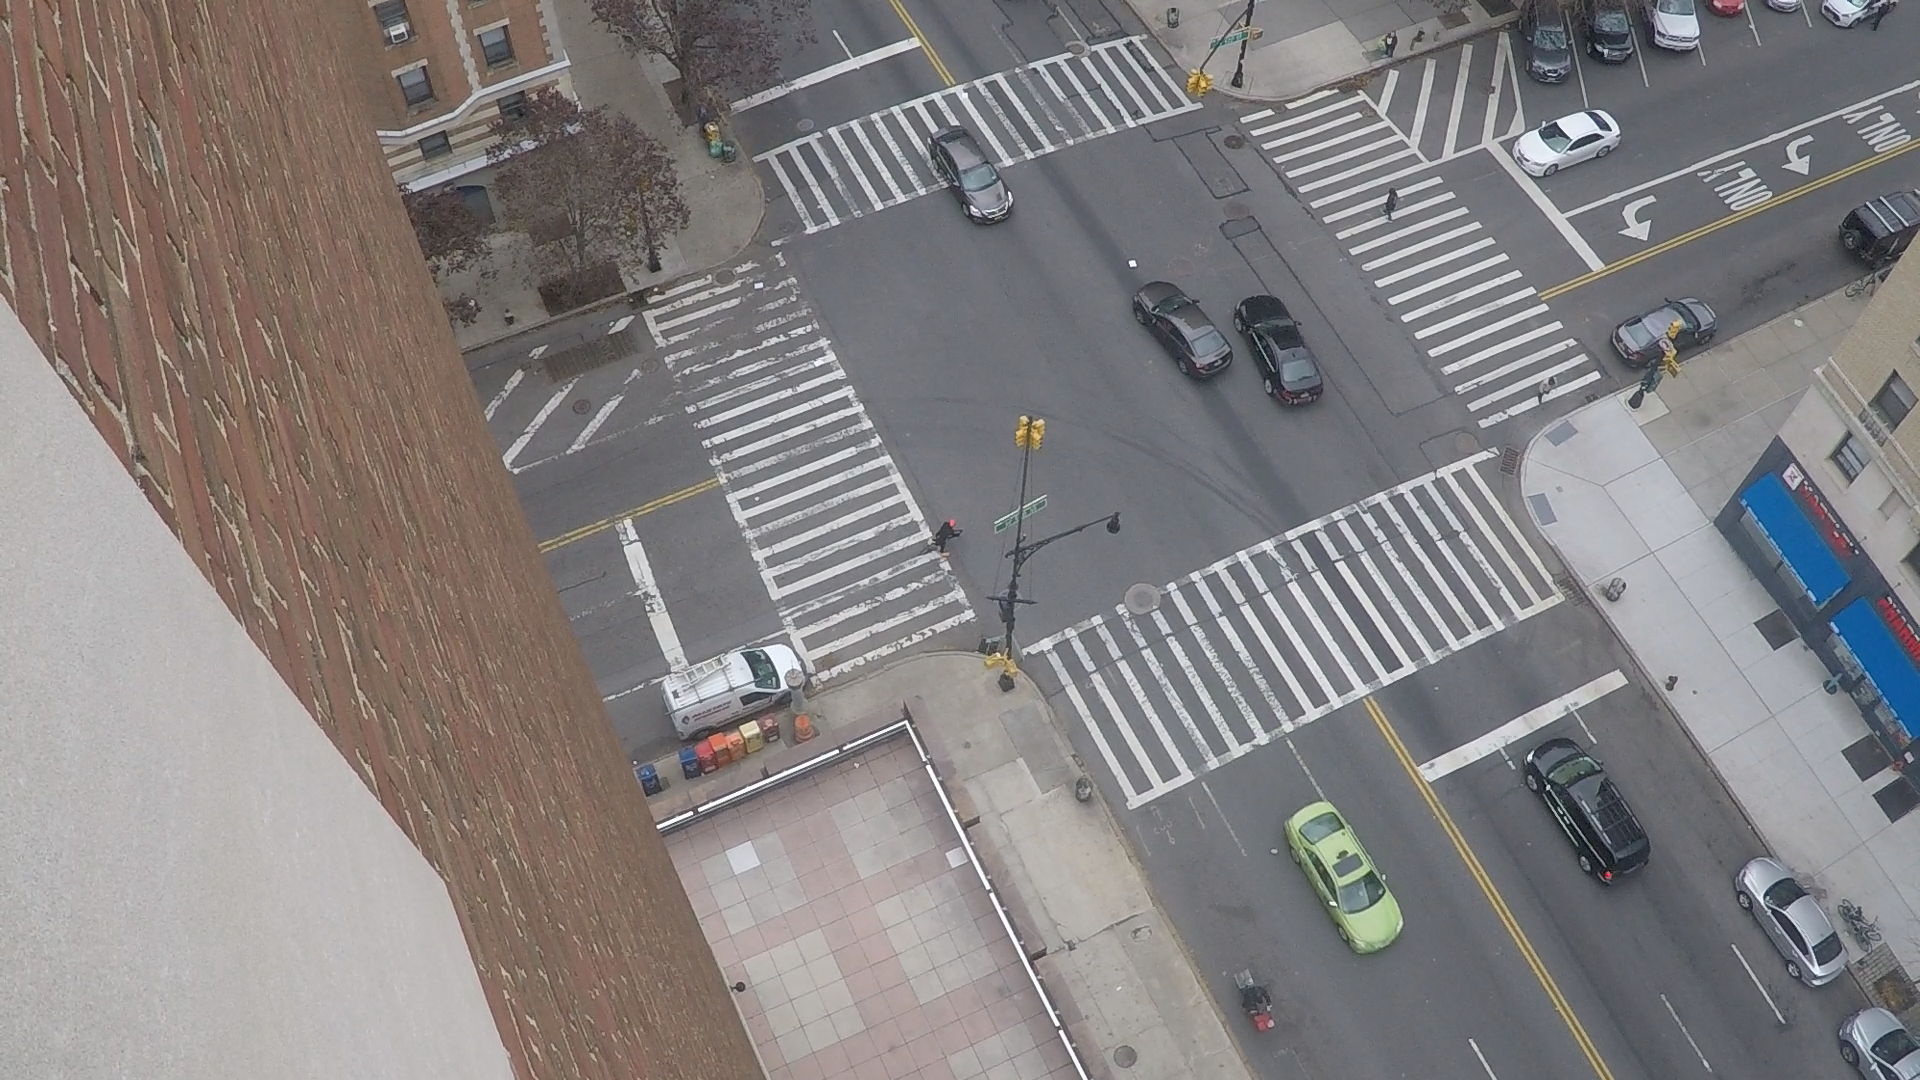Car: (989, 160, 994, 167), (1760, 0, 1764, 5), (1643, 0, 1644, 9), (1704, 0, 1705, 7)
